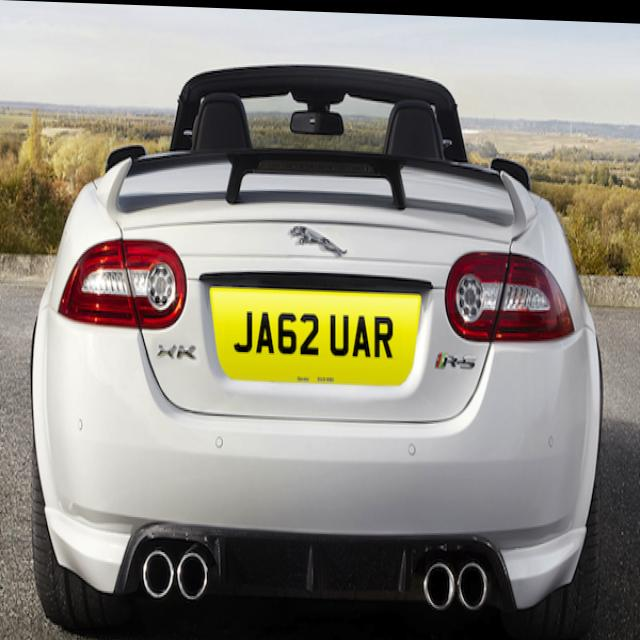licence: (205, 286, 419, 381)
